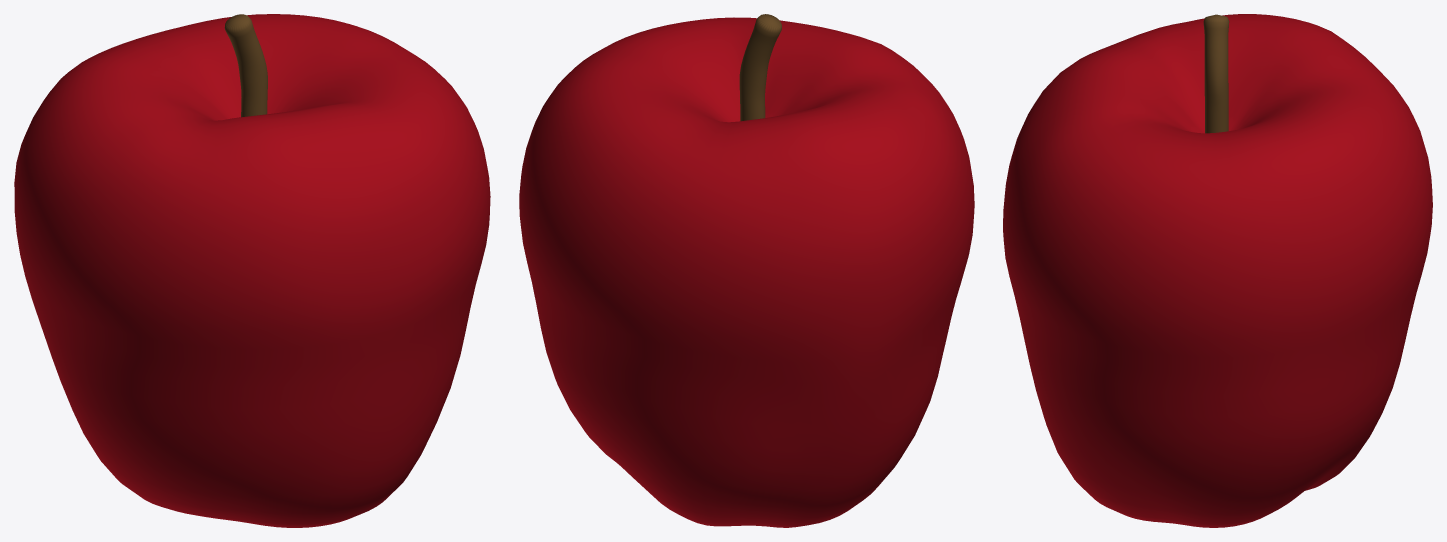
The model's file is Apple.fbx.
The picture shows the model from 3 angles, left to right: view 1: azimuth 30°, elevation 25°; view 2: azimuth 150°, elevation 25°; view 3: azimuth 270°, elevation 25°; orthographic projection. The views are drawn at different scales.
Visible parts, largest first — view 1: Sphere; view 2: Sphere; view 3: Sphere.
Boxes of the visible parts, box(x1,y1,x2,y2) form: Sphere: box(14, 14, 490, 527); Sphere: box(519, 14, 974, 527); Sphere: box(1003, 14, 1432, 527).
Size of the model in its own units: 209 by 234 by 196.
